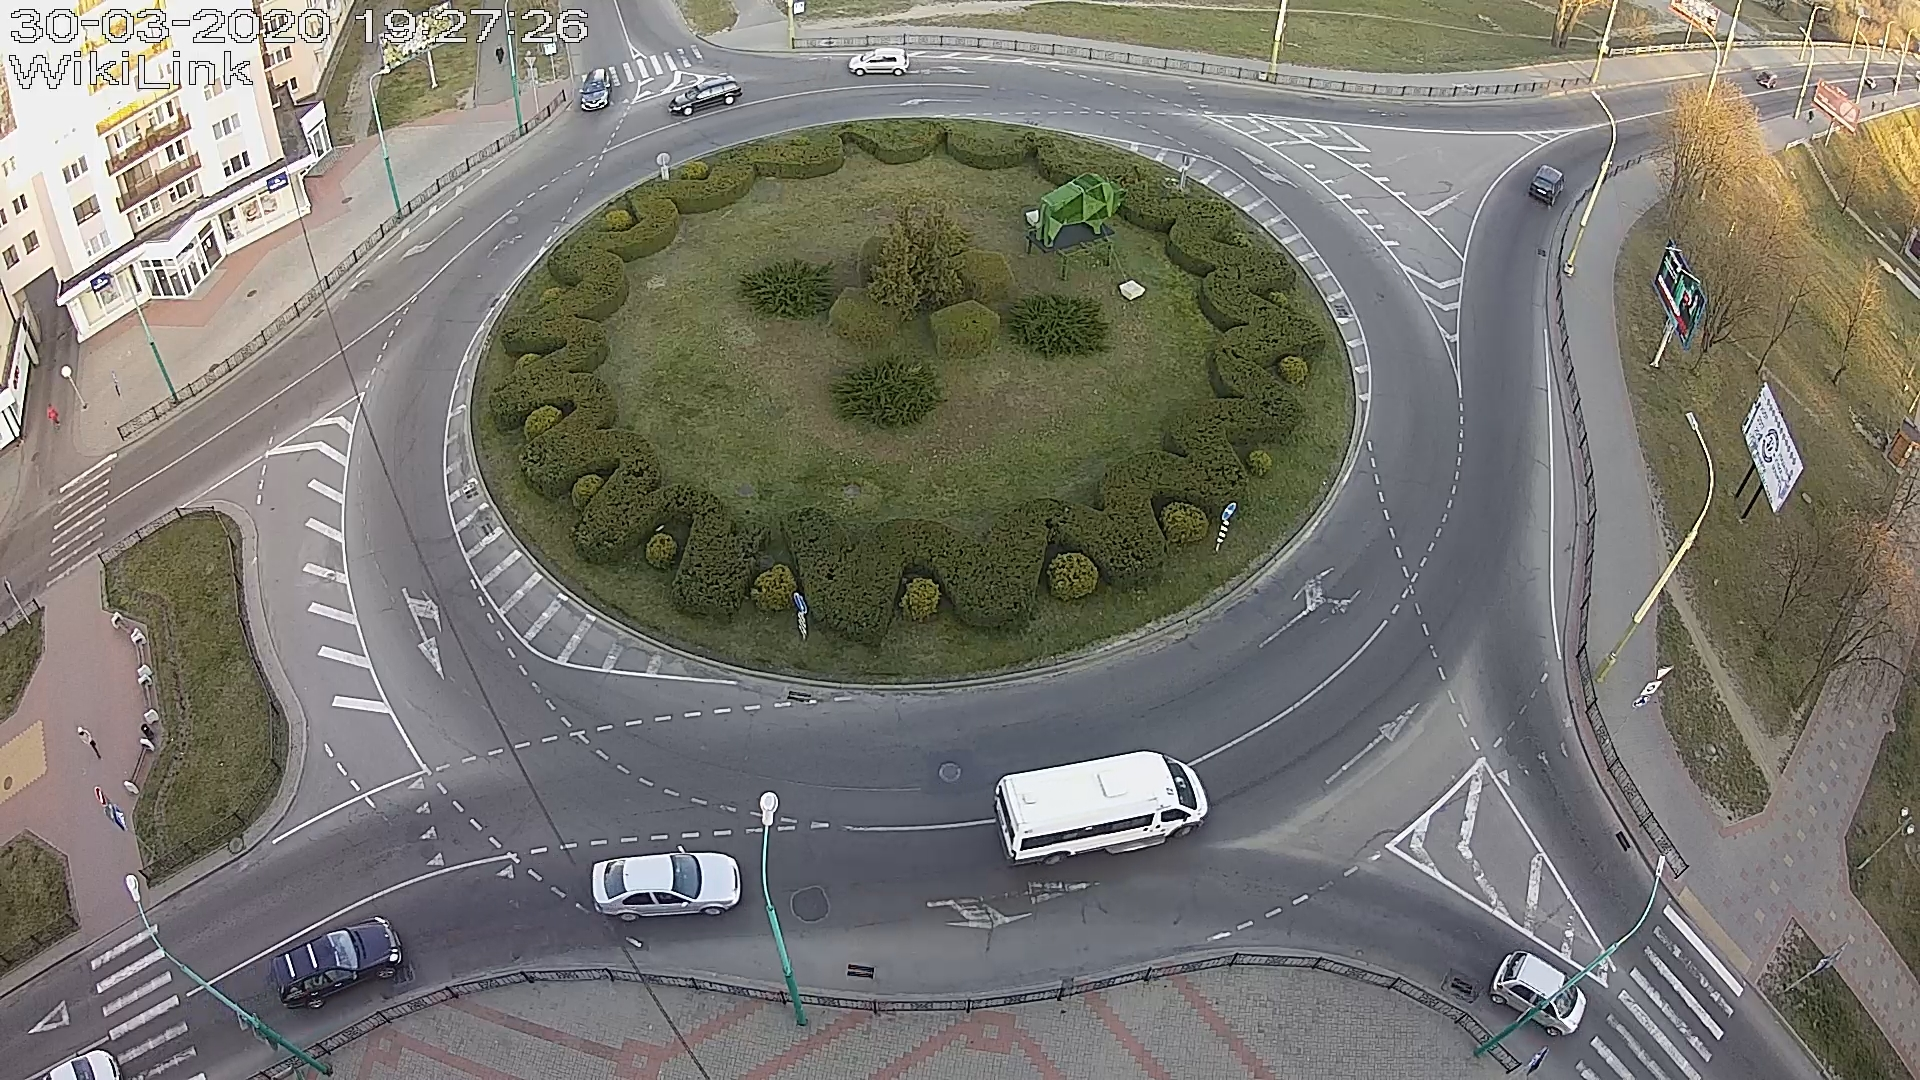car: (992, 749, 1209, 868), (272, 916, 404, 1010), (592, 844, 741, 922), (1489, 949, 1588, 1038), (667, 74, 742, 116), (848, 47, 910, 76), (1528, 164, 1567, 207), (579, 69, 613, 111)
